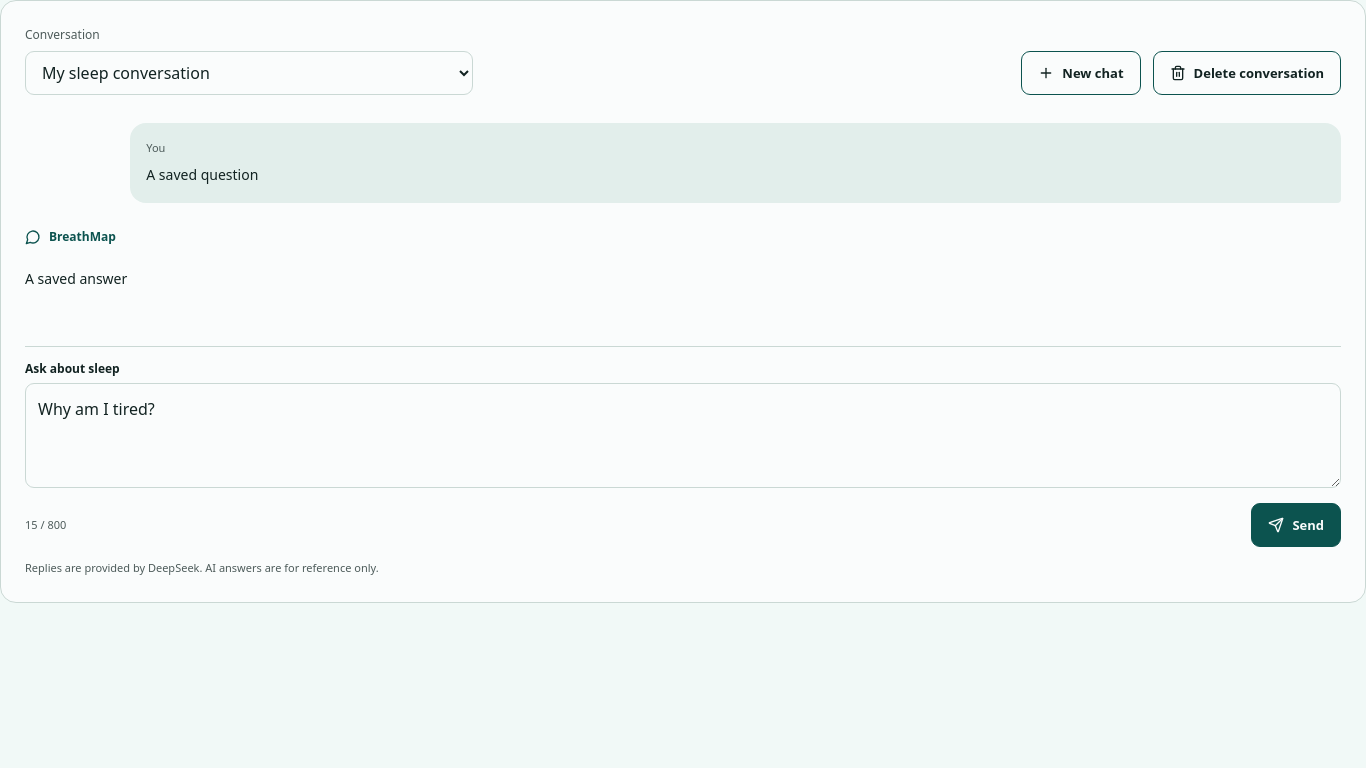
Test: General sleep conversation › retains messages and the confirmation when deletion fails
Click the button "Delete conversation" at (1247, 73), box [1153, 51, 1341, 95]
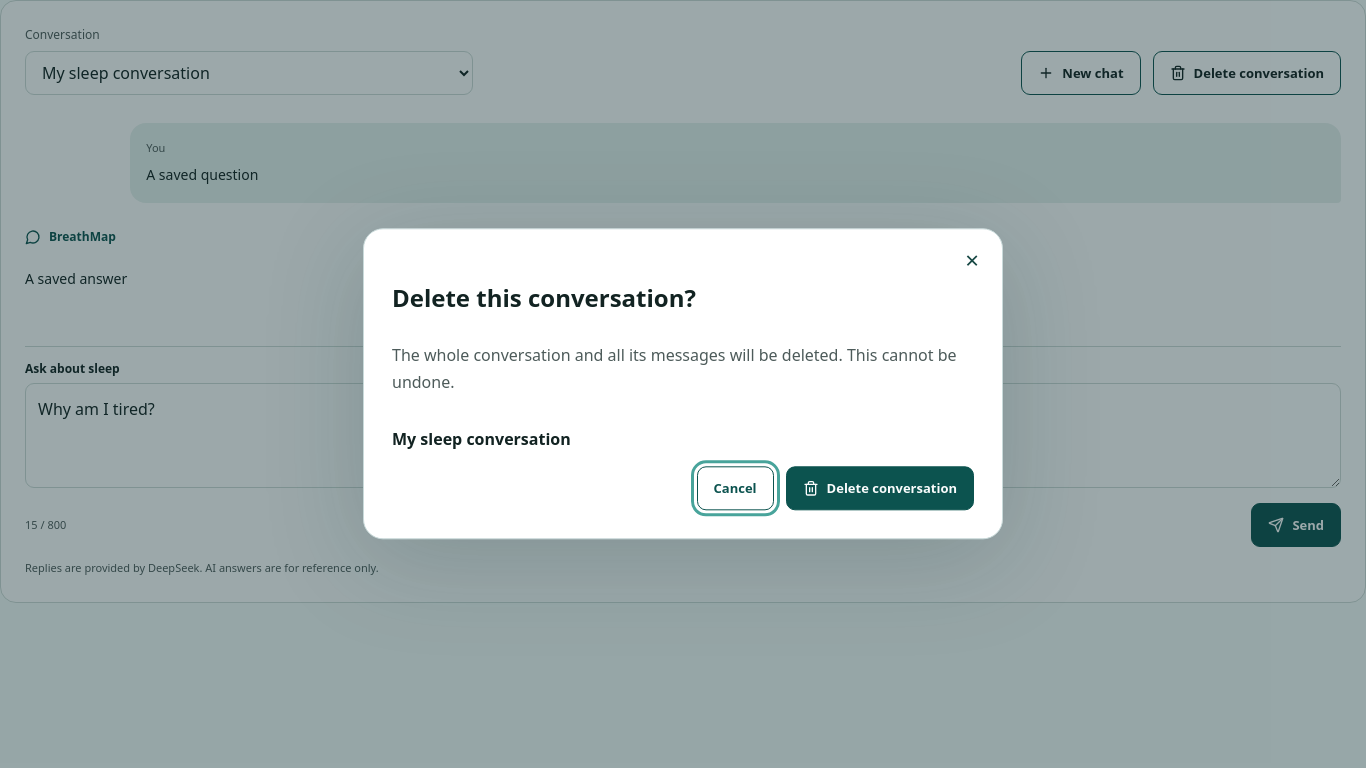
Click the button "Delete conversation" at (880, 489), box [786, 467, 974, 511]
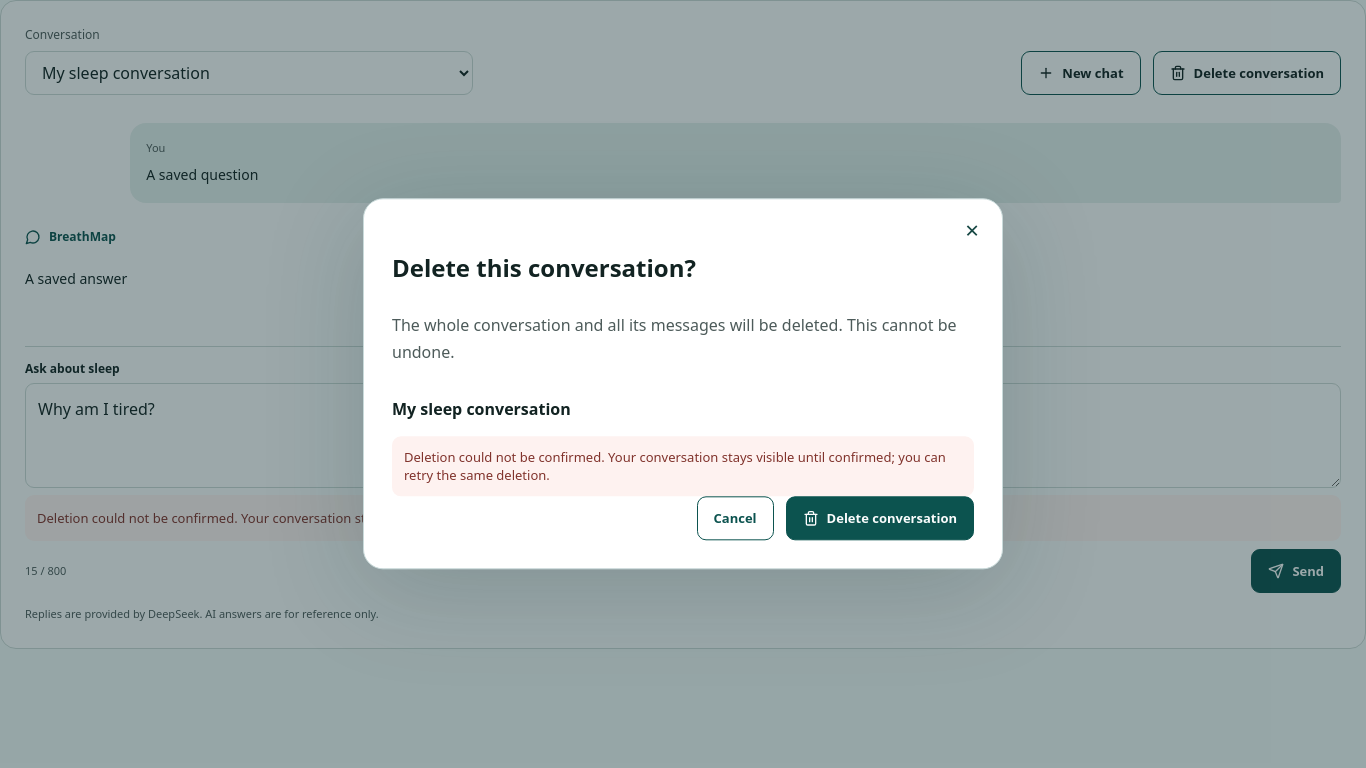
Expected: the text "A saved answer" is shown, [25, 269, 127, 288]
Now the dialog shows "Deletion could not be confirmed.", box [404, 449, 946, 485]
